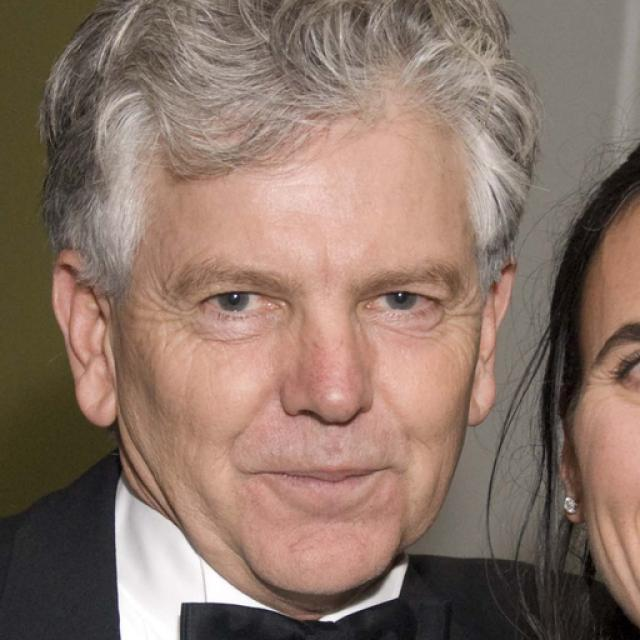content: (116, 107, 487, 596)
